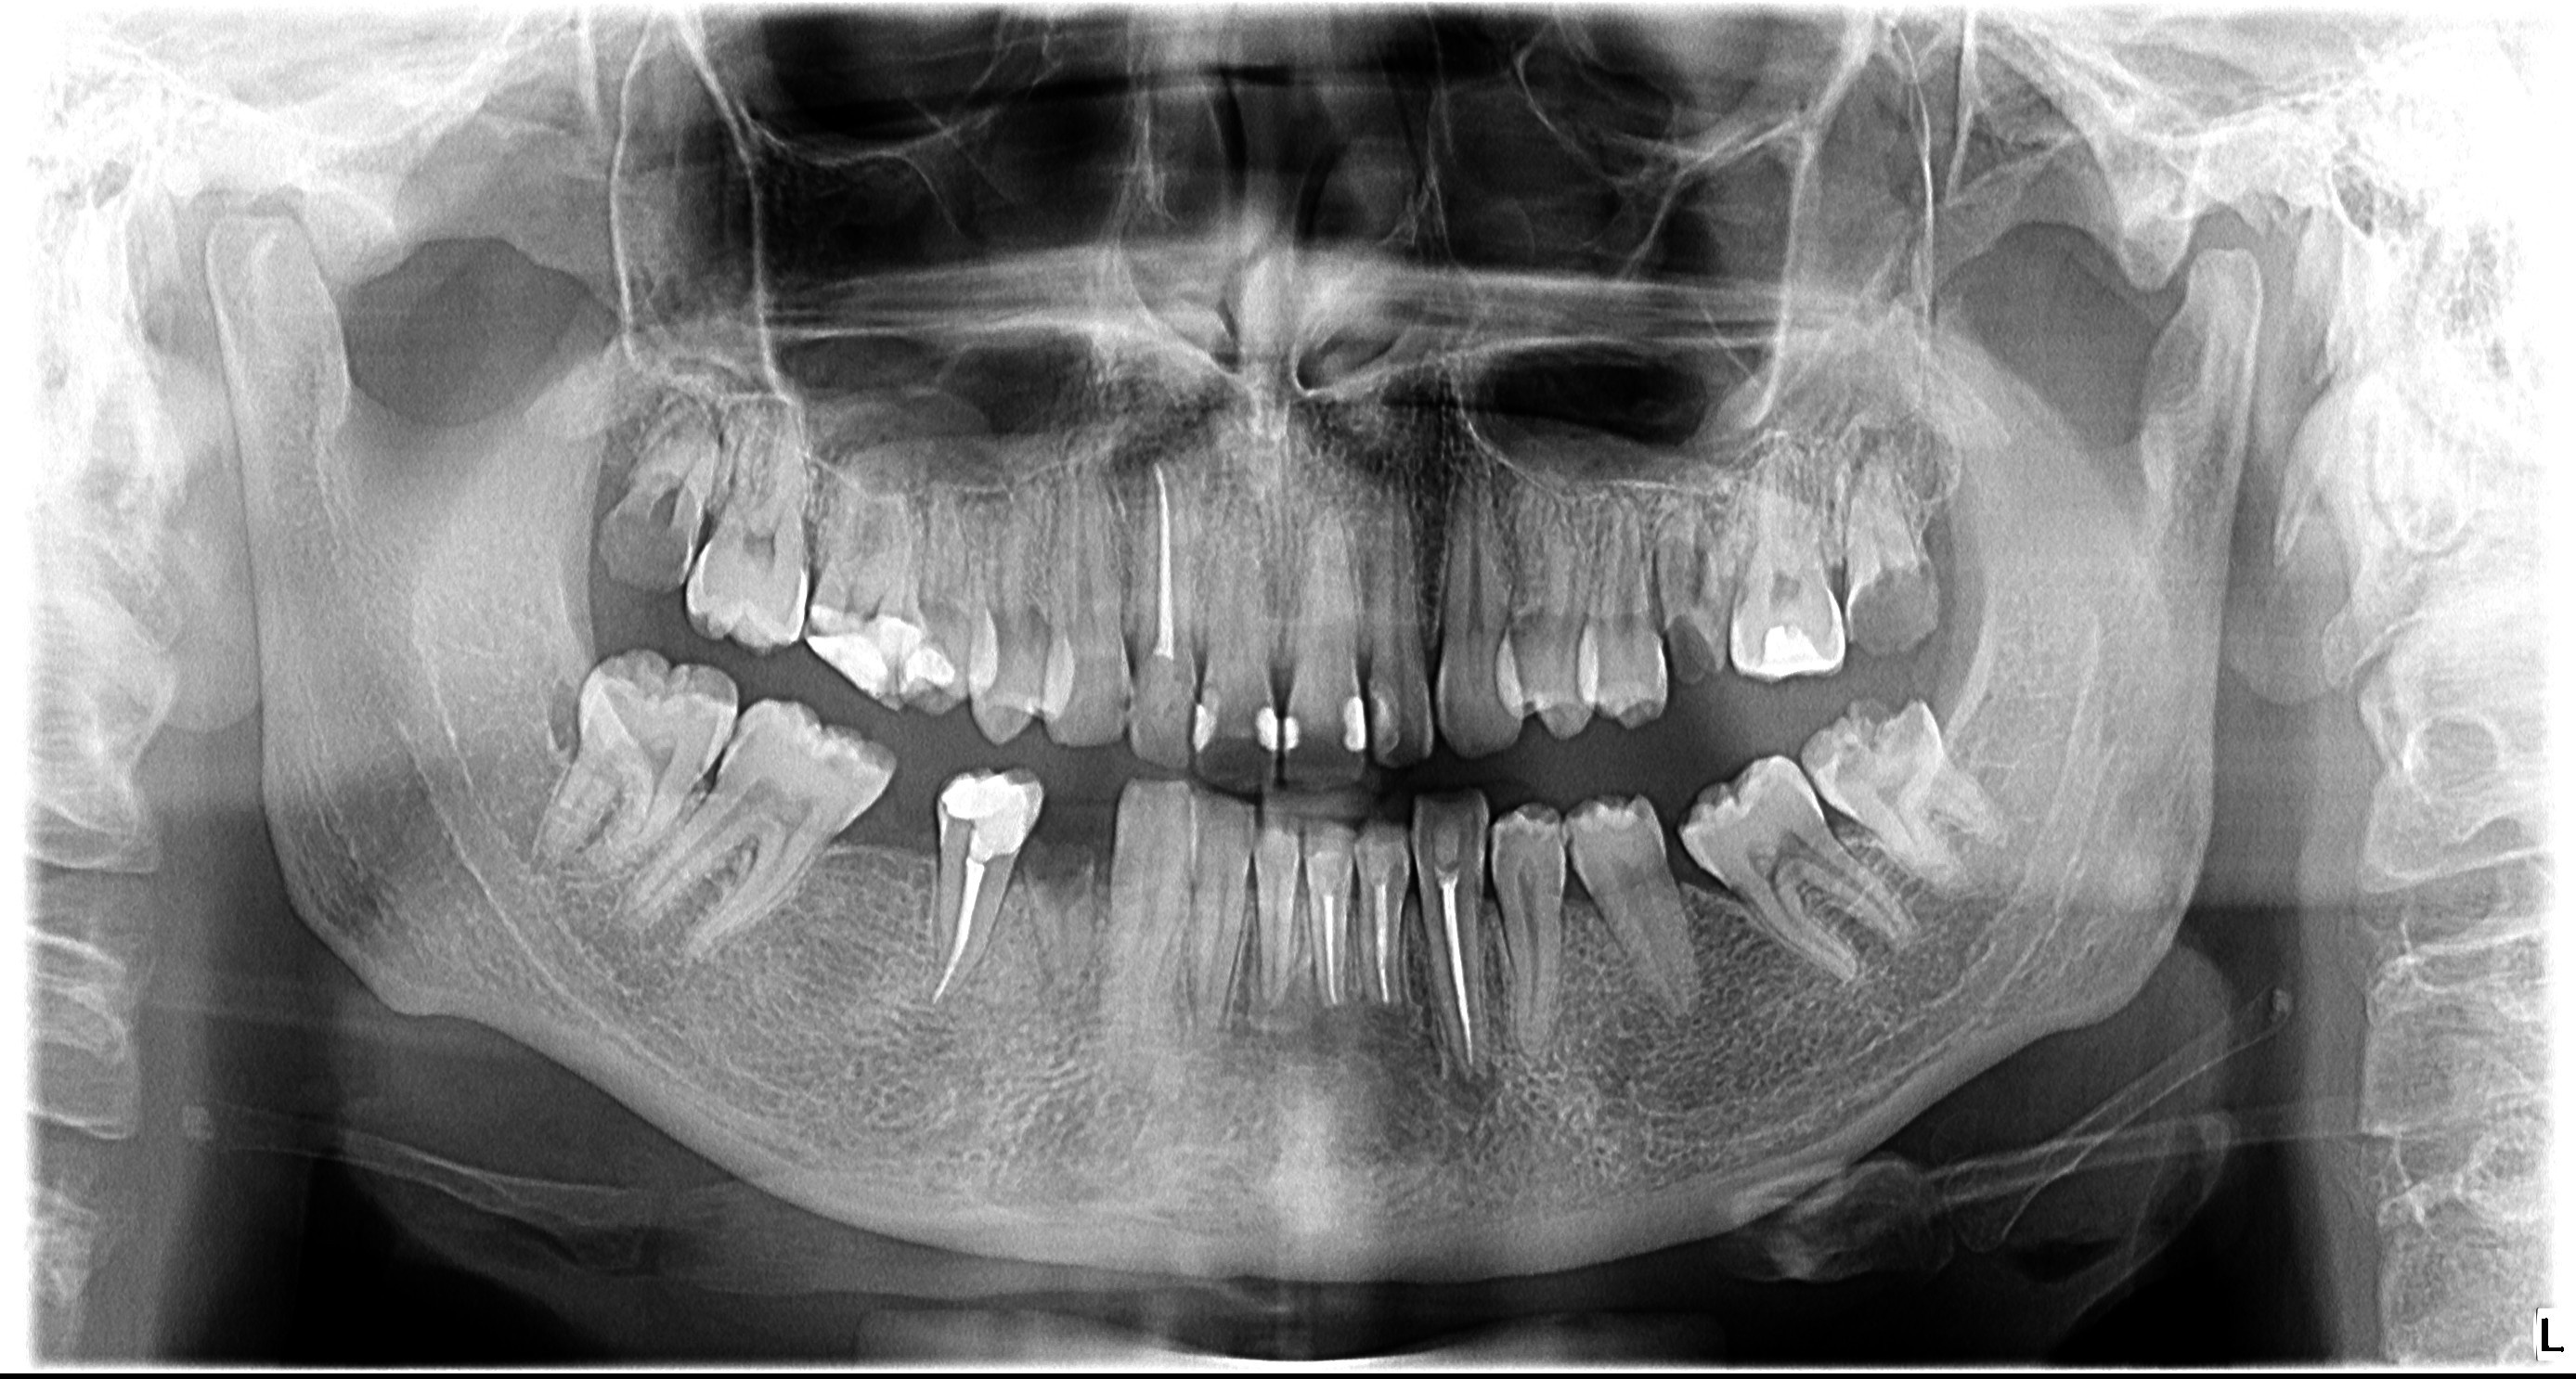API: (1441, 1062, 1520, 1146)
CAR: (1806, 681, 1951, 785), (581, 489, 702, 594), (1837, 562, 1952, 661), (1666, 592, 1733, 701)
END: (1426, 873, 1506, 1076), (1138, 443, 1196, 669), (925, 850, 985, 1013), (1361, 878, 1412, 1016), (1312, 885, 1353, 1015)
IMT: (1673, 851, 1765, 921)
PRR: (918, 759, 1063, 870), (818, 584, 908, 696), (886, 627, 961, 705), (1758, 611, 1825, 691), (1358, 686, 1400, 763), (1131, 661, 1186, 718), (1196, 681, 1235, 759), (1419, 809, 1463, 872), (1337, 689, 1371, 771), (1310, 817, 1349, 882), (1244, 688, 1279, 758), (1366, 826, 1395, 877), (1283, 696, 1307, 741)
ROT: (1007, 819, 1104, 998)
